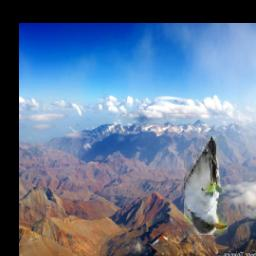Cuckoo: (184, 135, 228, 235)
